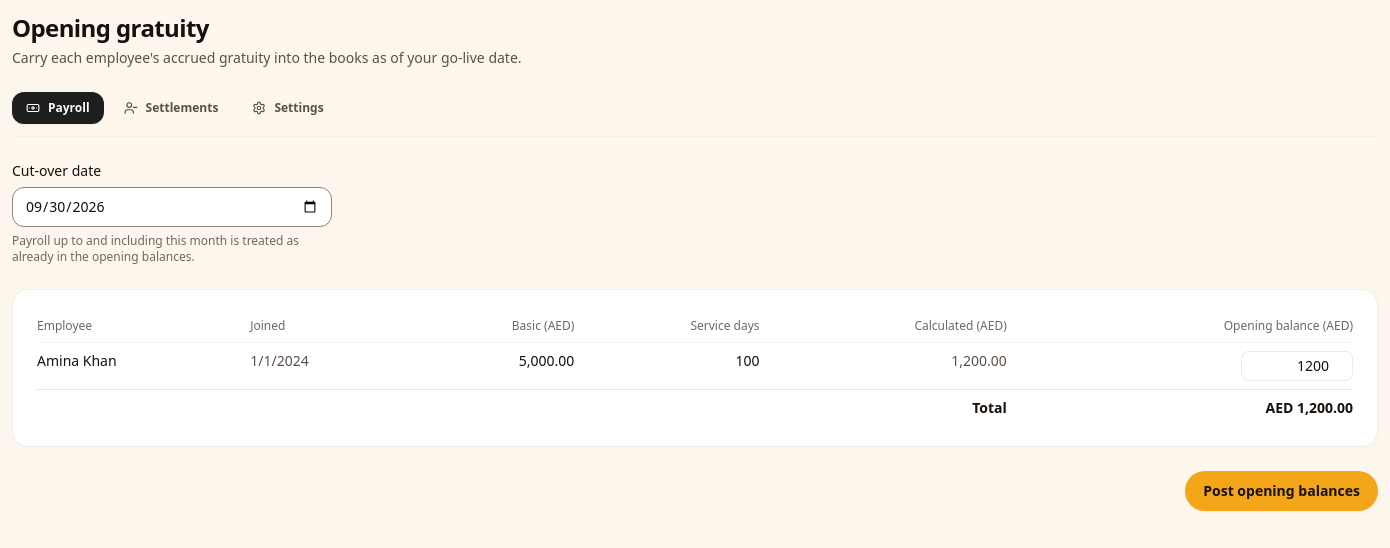
Test: OpeningGratuityView › a cleared or negative override marks the row invalid and disables Post
Clear the number field named "Opening balance for Amina Khan". click: [1297, 366]
box: [1241, 351, 1353, 381]
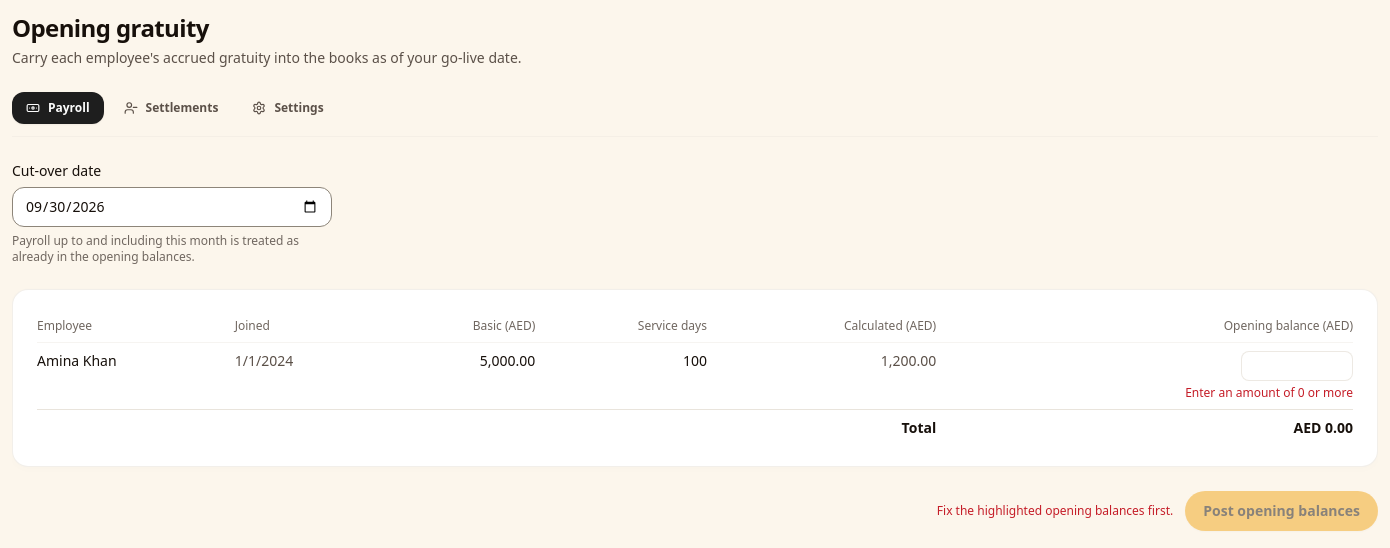
expect the button "Post opening balances" is disabled: met, box [1185, 491, 1378, 531]
expect the message shows "Enter an amount": met, box [1185, 384, 1353, 401]
Type "-5" into the number field named "Opening balance for Amina Khan". click: [1297, 366]
box: [1241, 351, 1353, 381]
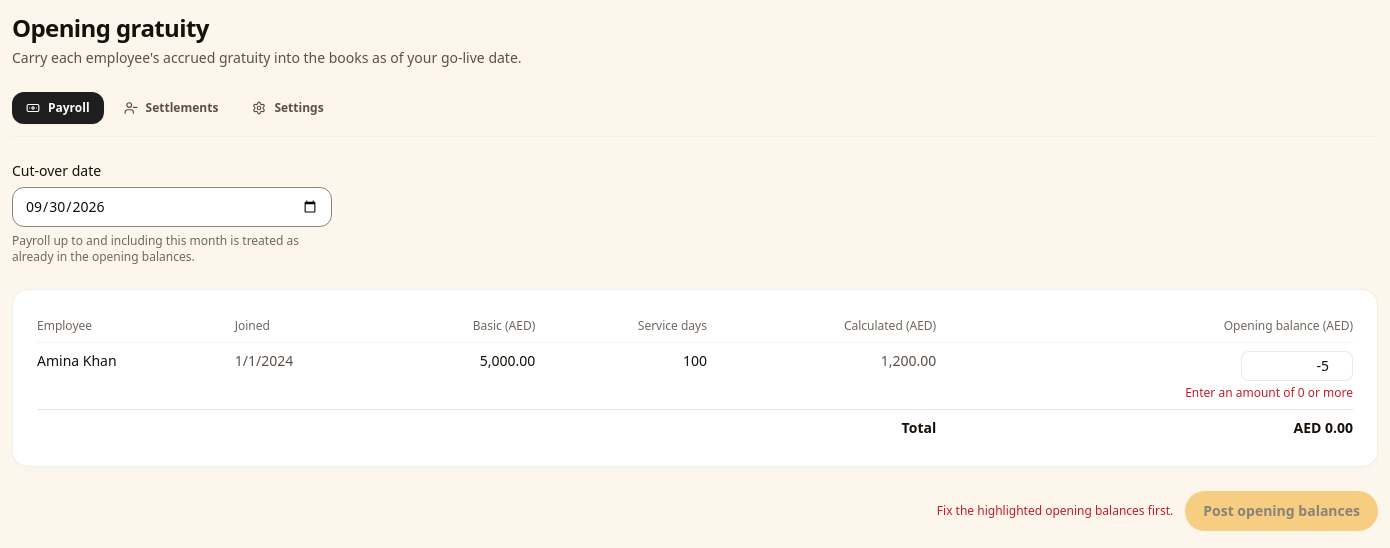
expect the button "Post opening balances" is disabled: met, box [1185, 491, 1378, 531]
Replace the text in the number field named "Opening balance for Amina Khan" with "1500". click: [1297, 366]
box: [1241, 351, 1353, 381]
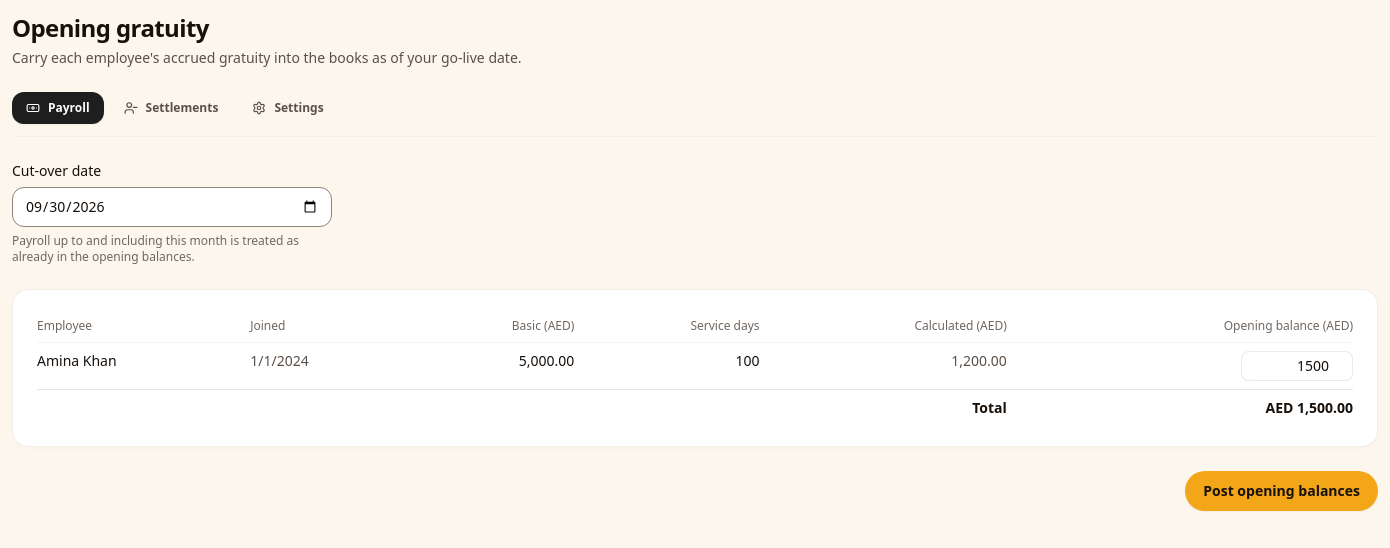
expect the button "Post opening balances" is enabled: met, box [1185, 471, 1378, 511]
expect the cell with test id "opening-total" shows "1,500.00": met, box [1266, 398, 1353, 417]
